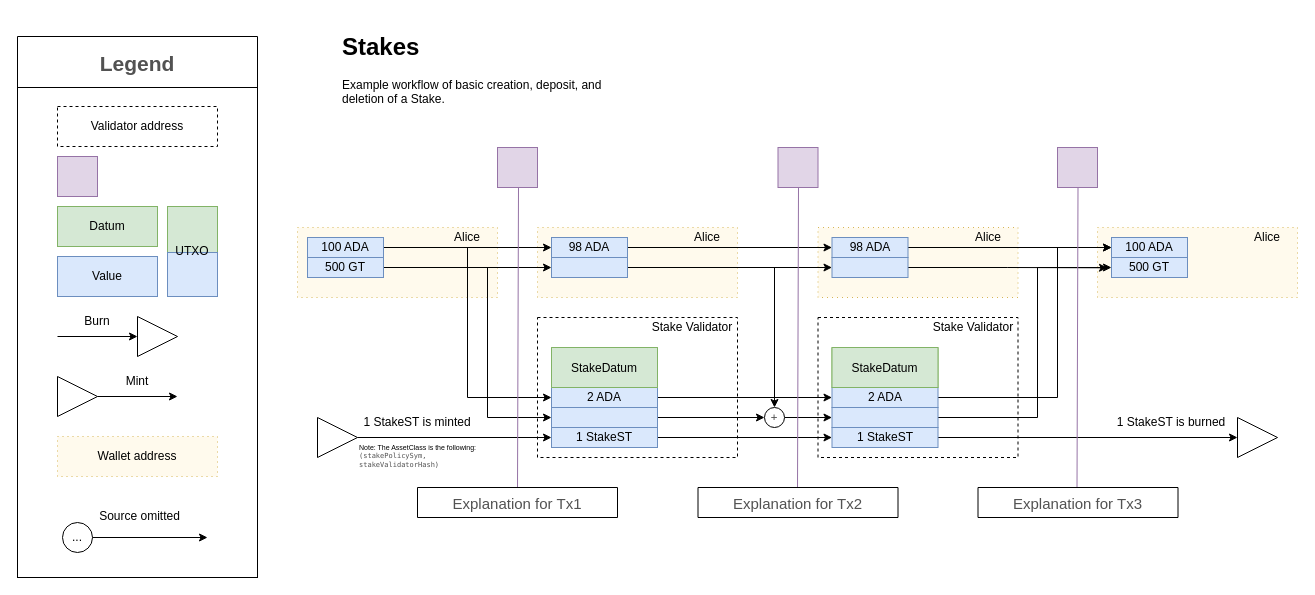
Some shapes in this 1315 by 595 pixel diagram are drawn without their labels. The centre of each missing label's shape, as x and y in pixels:
"100 GT" goes at (x=604, y=417).
"200 GT" goes at (x=869, y=267).
"300 GT" goes at (x=884, y=417).
"400 GT" goes at (x=589, y=267).
"Tx" goes at (x=77, y=176).
"Tx1" goes at (x=517, y=167).
"Tx2" goes at (x=797, y=167).
"Tx3" goes at (x=1077, y=167).
